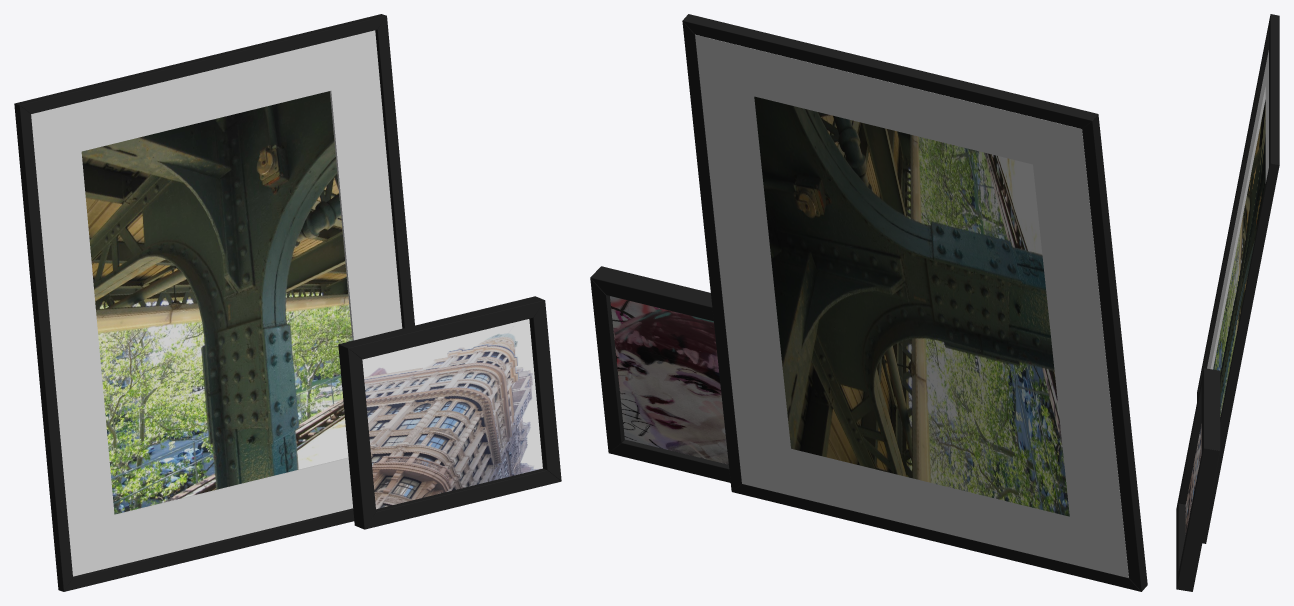
The model's file is cgt_Accessory_81_001.glb.
3 renders of one model, left to right at view 1: azimuth 30°, elevation 25°; view 2: azimuth 150°, elevation 25°; view 3: azimuth 270°, elevation 25°, orthographic. The views are drawn at different scales.
Visible parts, largest first — view 1: cgt_Accessory_81_001; view 2: cgt_Accessory_81_001; view 3: cgt_Accessory_81_001.
Boxes of the visible parts, left/top/right/bottom form: cgt_Accessory_81_001: left=14, top=14, right=561, bottom=591; cgt_Accessory_81_001: left=590, top=14, right=1147, bottom=591; cgt_Accessory_81_001: left=1176, top=14, right=1279, bottom=591.
Size of the model in its own units: 0.5643 by 0.507 by 0.1247.
Materials: 5 (3 with a texture image).
